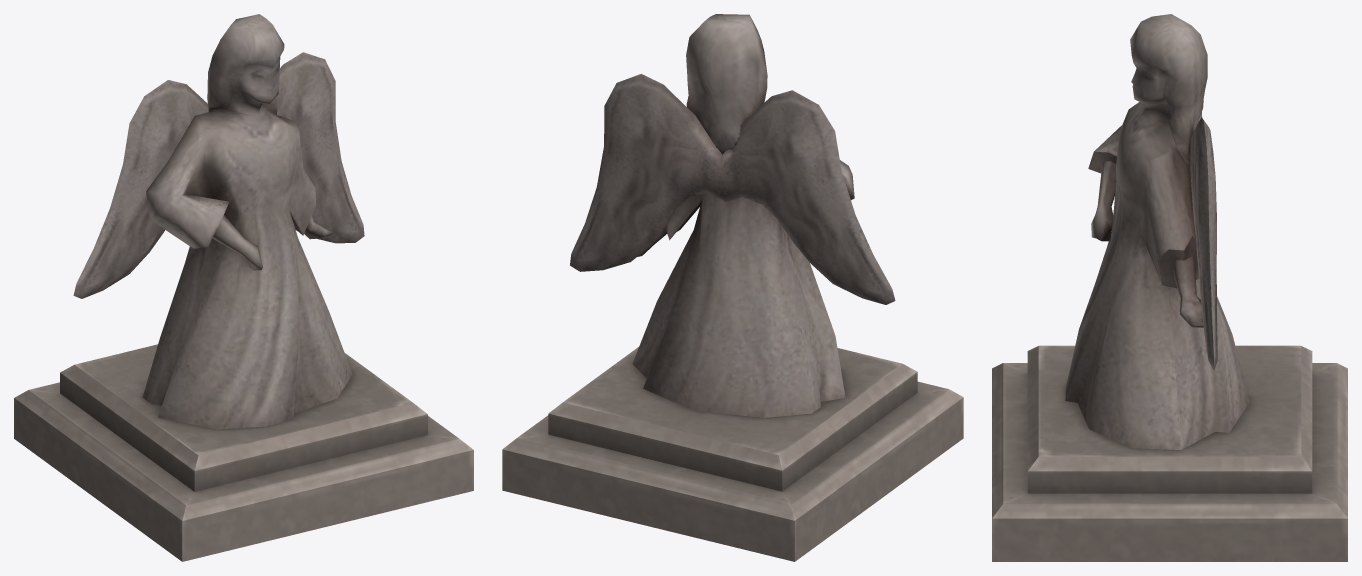
The model's file is GoddessStatues_L.fbx.
3 views of the same model, side by side, from view 1: azimuth 30°, elevation 25°; view 2: azimuth 150°, elevation 25°; view 3: azimuth 270°, elevation 25° (orthographic). The views are drawn at different scales.
Parts seen in each view (by area): view 1: GoddessStatues_L; view 2: GoddessStatues_L; view 3: GoddessStatues_L.
Part boxes in pixels (bbox=[...]): GoddessStatues_L: bbox=[14, 14, 473, 561]; GoddessStatues_L: bbox=[502, 14, 963, 561]; GoddessStatues_L: bbox=[992, 14, 1347, 561].
Size of the model in its own units: 2.14 by 2.89 by 2.
